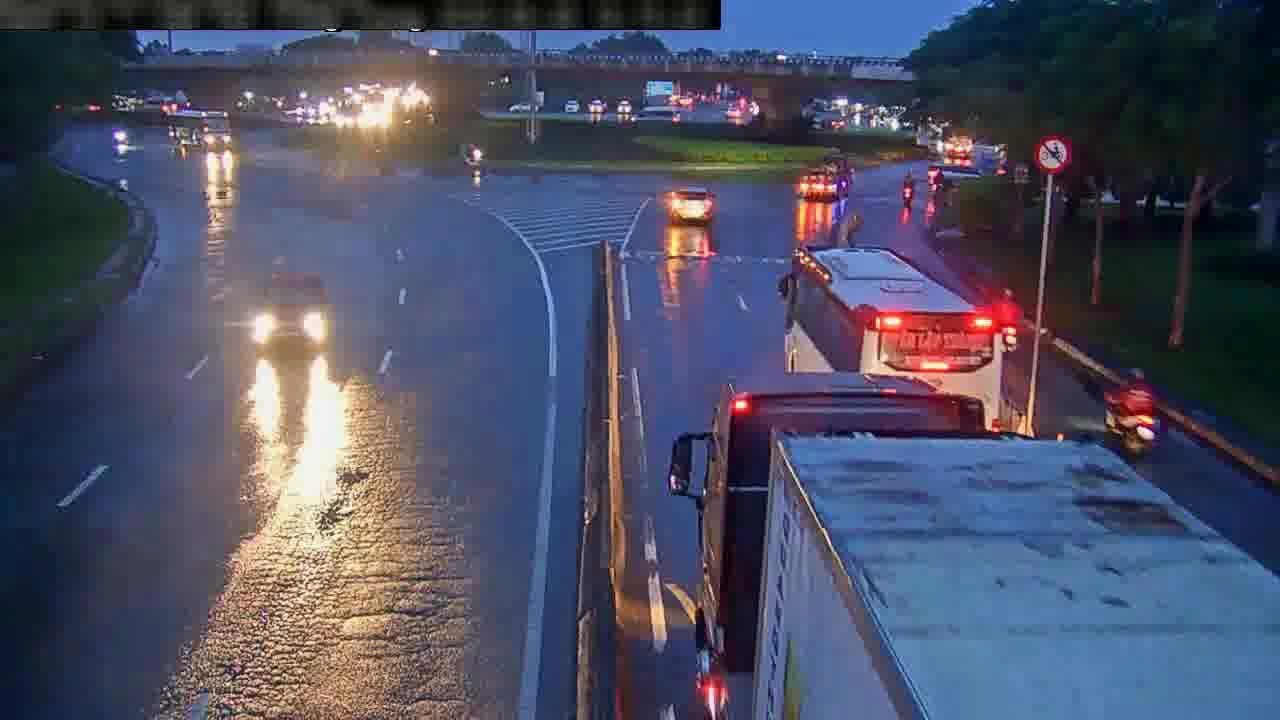14: (778, 246, 1003, 437)
8: (674, 375, 1278, 720), (791, 153, 858, 203)
container: (257, 262, 333, 357), (666, 184, 717, 224)
motorbike: (1101, 366, 1157, 454), (900, 168, 914, 208)
